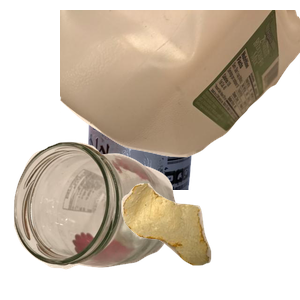glass: (11, 139, 179, 300)
metal: (82, 66, 270, 246)
plastic: (60, 10, 300, 160)
trash: (119, 181, 300, 300)
